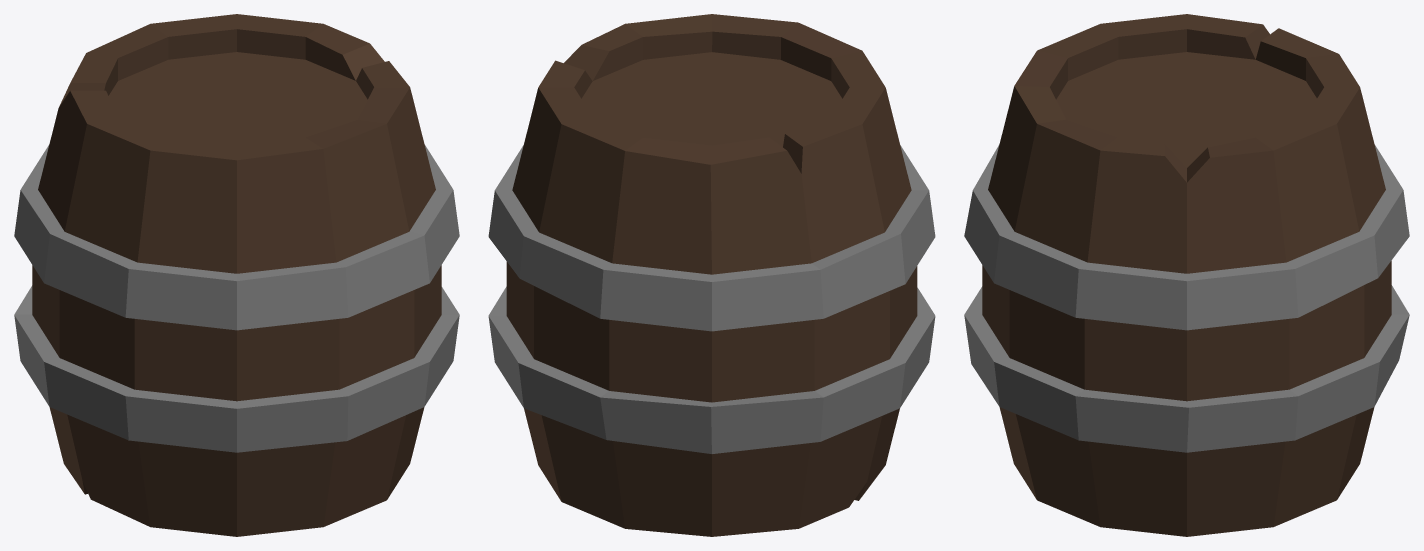
The model's file is Barrel.fbx.
3 views of the same model, side by side, from view 1: azimuth 30°, elevation 25°; view 2: azimuth 150°, elevation 25°; view 3: azimuth 270°, elevation 25° (orthographic).
Visible parts, largest first — view 1: Barrel; view 2: Barrel; view 3: Barrel.
Part boxes in pixels (x1,y1,x2,y2): Barrel: (14, 14, 459, 536); Barrel: (488, 14, 935, 536); Barrel: (964, 14, 1409, 536).
Size of the model in its own units: 90.06 by 84.61 by 90.06.
